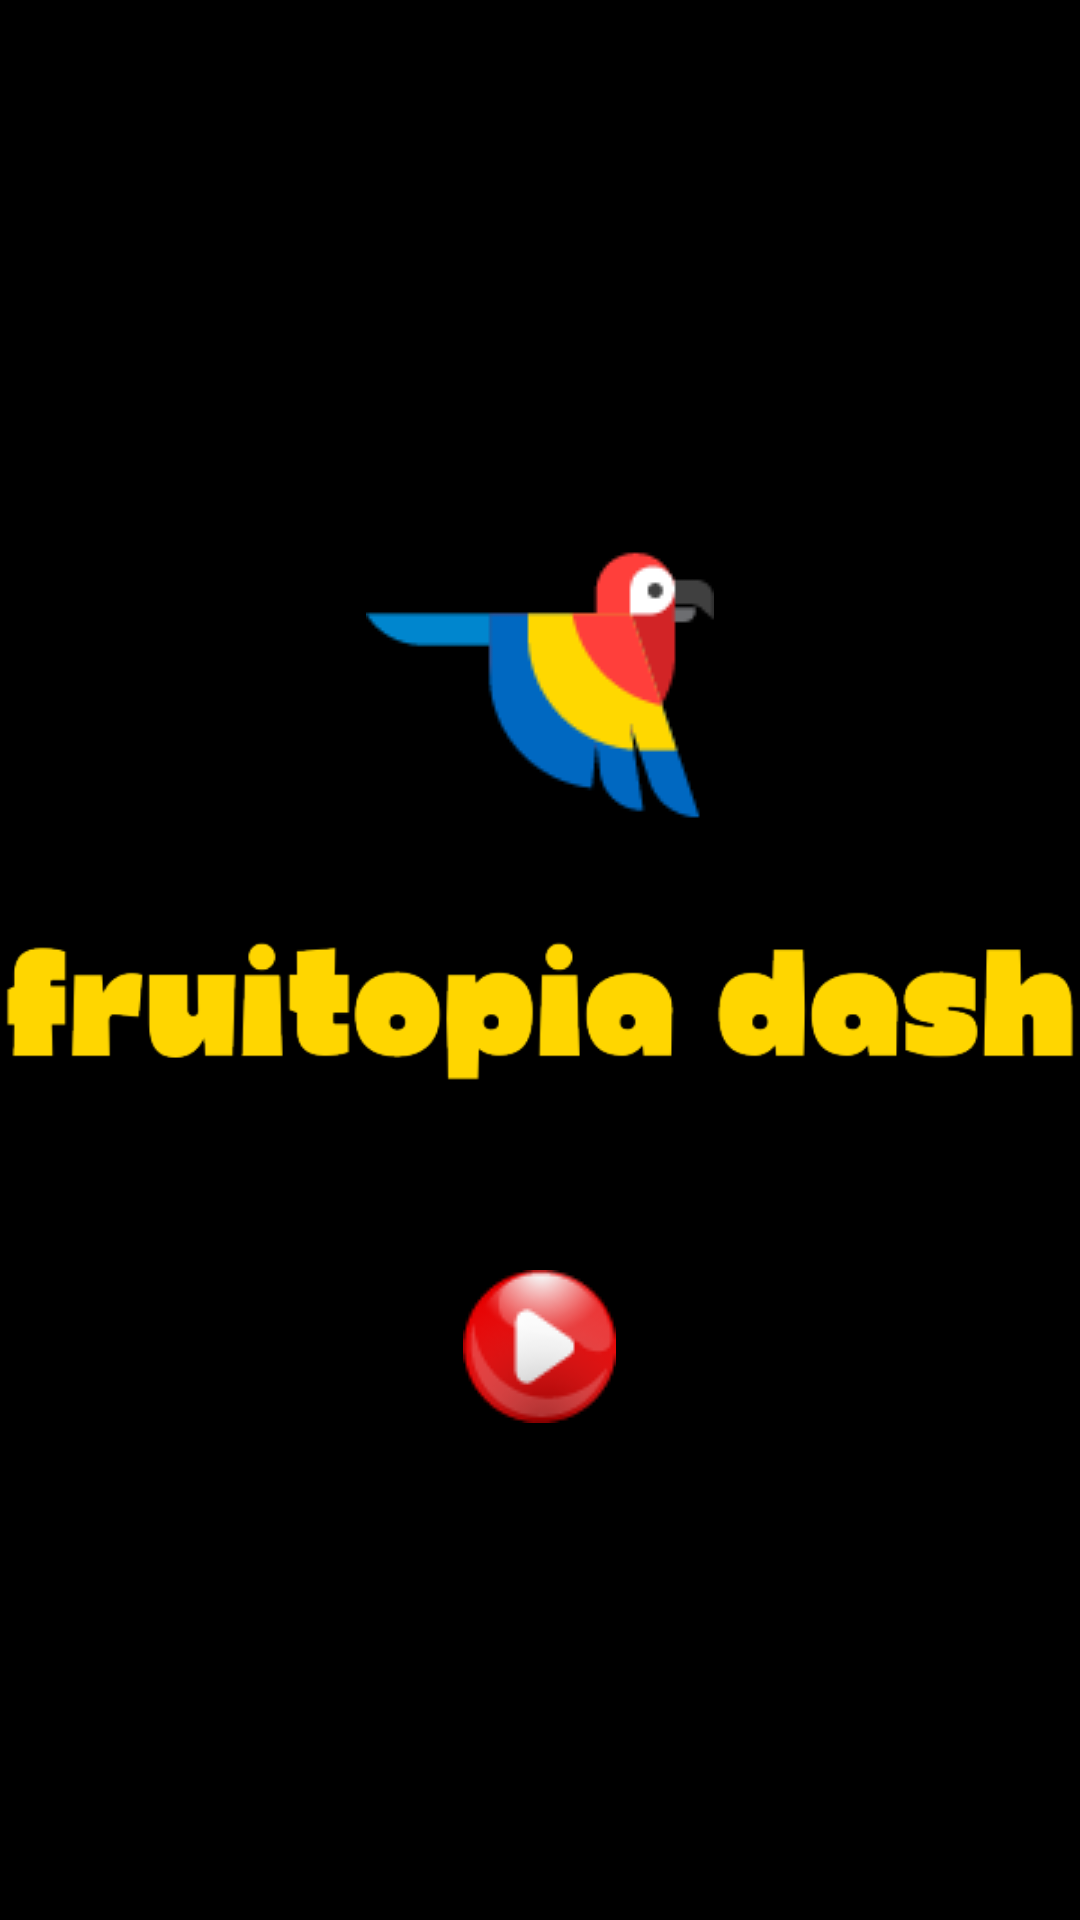

Where to tap for icons on this 1080*1920 app screen, as point (x, y):
bird: point (540, 685)
Play Button: point (539, 1346)
